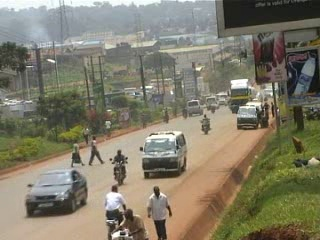Car: (23, 166, 88, 215), (215, 96, 226, 107)
Motorcycle: (108, 146, 131, 186), (198, 111, 212, 135), (204, 100, 219, 115), (179, 104, 188, 121)
